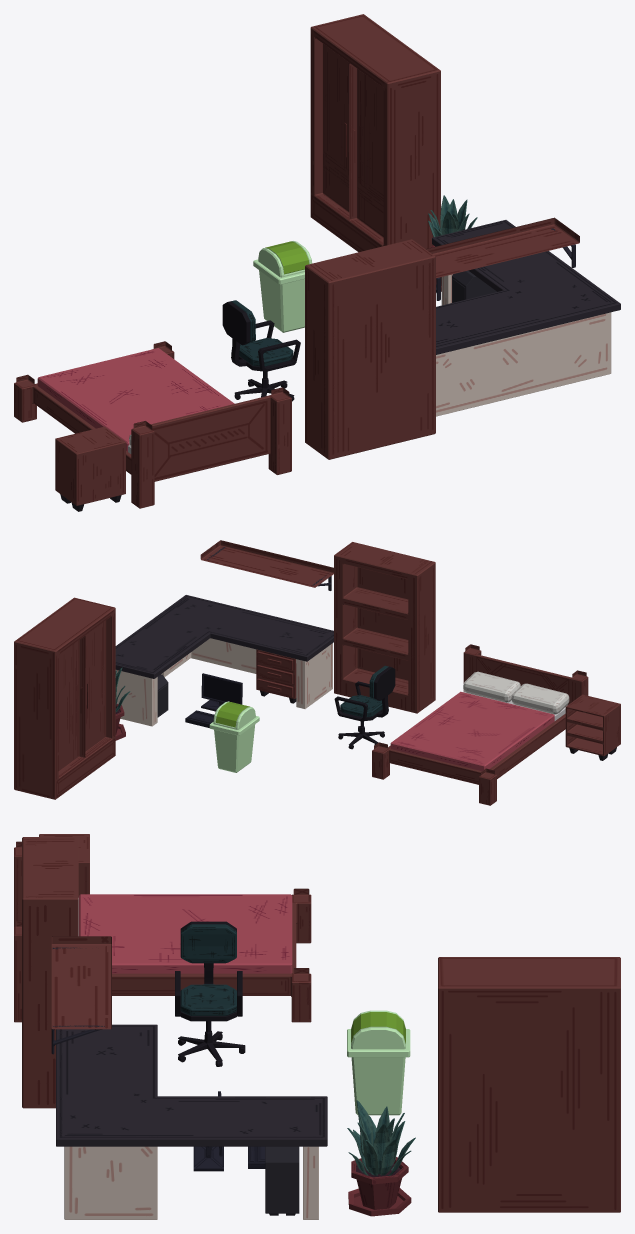
The model's file is room.fbx.
3 views of the same model, one above another, from view 1: azimuth 30°, elevation 25°; view 2: azimuth 150°, elevation 25°; view 3: azimuth 270°, elevation 25° (orthographic). The views are drawn at different scales.
Visible parts, largest first — view 1: Shelf, Table, Closet, Bed, ClosetDoor, Bed.001, DrawerBody.001, Plank, Chair2, can2, Chair, can1 (+2 smaller); view 2: Shelf, Table, Closet, Bed.001, ClosetDoor, Bed, Plank, DrawerBody.001, Chair2, can2, Pillow, Pillow.001 (+9 smaller); view 3: Closet, Table, Bed.001, Shelf, Bed, Plank, Chair, can2, Cylinder, PC, Chair2, can1 (+3 smaller).
Part boxes in pixels (x1,y1,x2,y2): Shelf: (305,239,435,459); Table: (432,220,620,416); Closet: (310,14,440,252); Bed: (14,341,291,508); ClosetDoor: (315,38,383,244); Bed.001: (37,348,234,453); DrawerBody.001: (55,426,125,511); Plank: (426,217,579,278); Chair2: (222,301,300,401); can2: (259,270,304,332); Chair: (231,300,293,366); can1: (253,241,312,284); Shelf: (334,542,435,713); Table: (115,595,333,726); Closet: (14,597,115,799); Bed.001: (390,691,567,770); ClosetDoor: (58,616,111,777); Bed: (372,644,588,805); Plank: (200,540,333,587); DrawerBody.001: (565,694,620,760); Chair2: (334,666,395,749); can2: (214,724,255,772); Pillow: (511,683,569,714); Pillow.001: (463,671,520,702); Closet: (438,957,620,1212); Table: (56,1024,327,1219); Bed.001: (78,894,292,973); Shelf: (22,837,78,1108); Bed: (14,841,311,1022); Plank: (51,936,111,1029); Chair: (180,924,236,1015); can2: (351,1057,405,1115); Cylinder: (348,1157,411,1216); PC: (265,1146,299,1215); Chair2: (175,921,245,1066); can1: (347,1010,410,1057).
Bounding box in the file's own units: 1330 × 440 × 1073.
21 materials, 15 textured.
